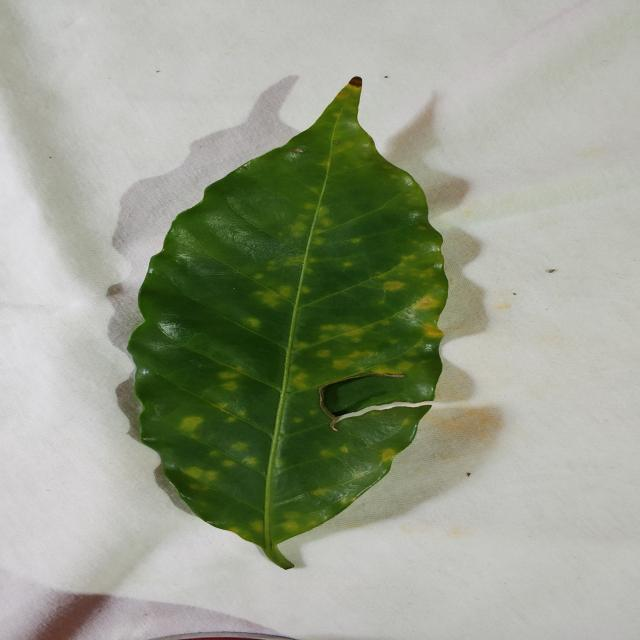Enfermedad-Roya: (127, 78, 448, 569)
